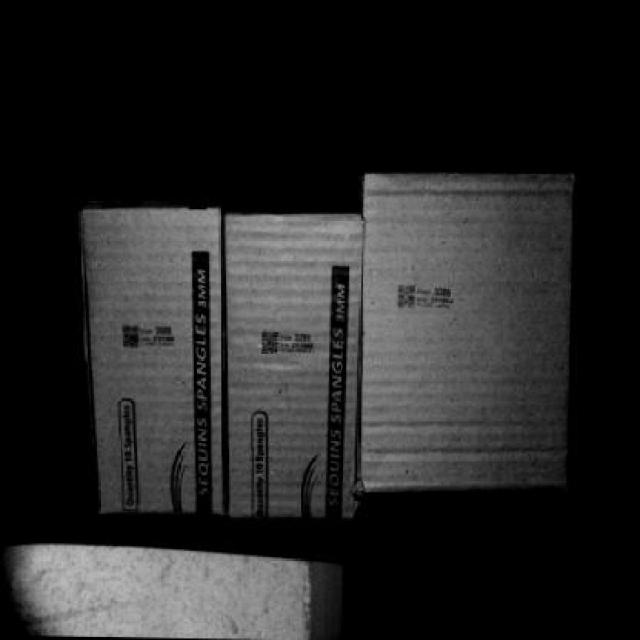cardboxes: (362, 176, 573, 493), (81, 210, 228, 512), (221, 216, 361, 518)
